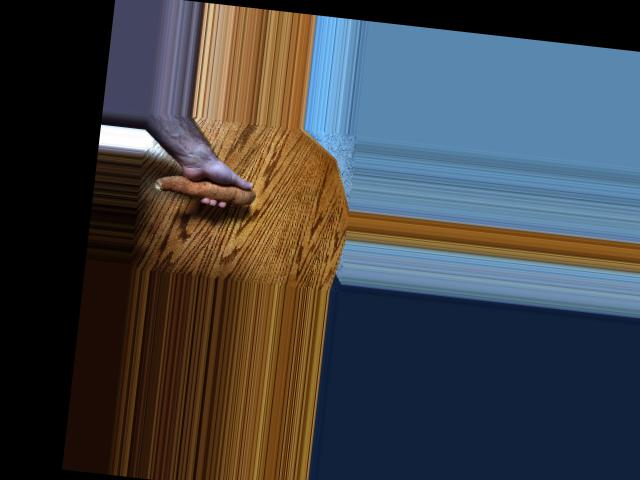sweet_potato: (151, 166, 264, 211)
